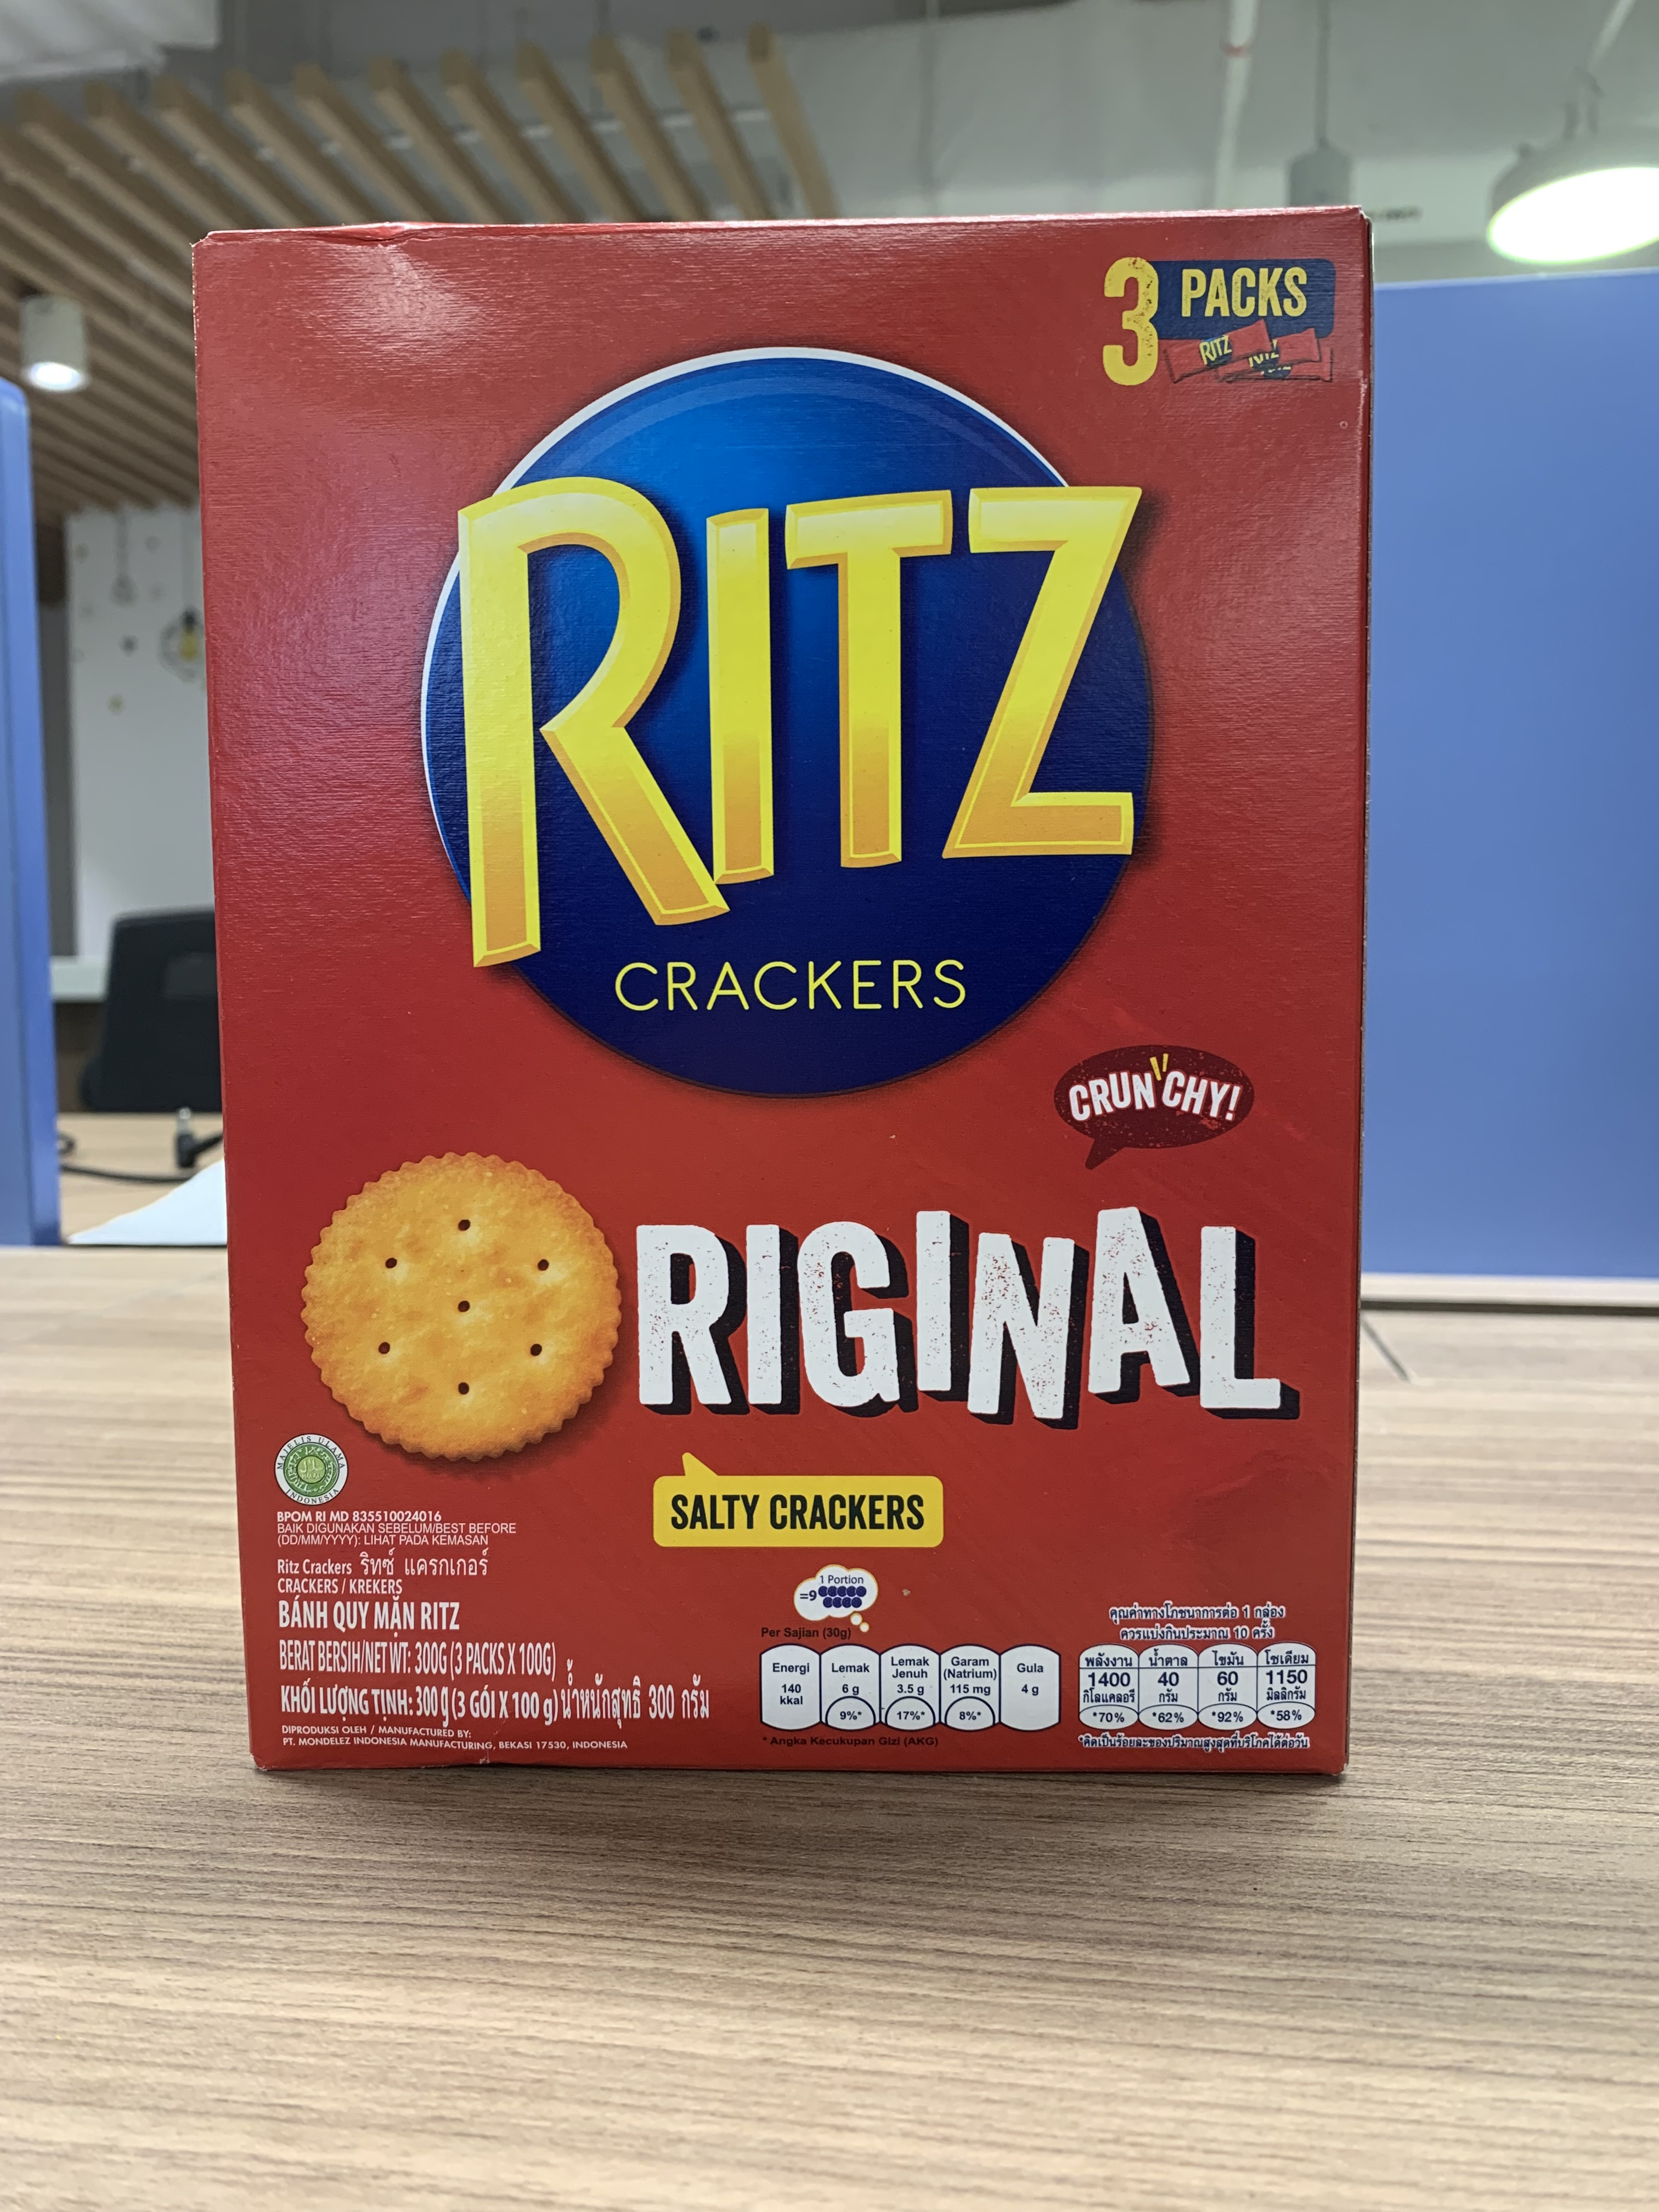halal: (279, 1437, 343, 1500)
